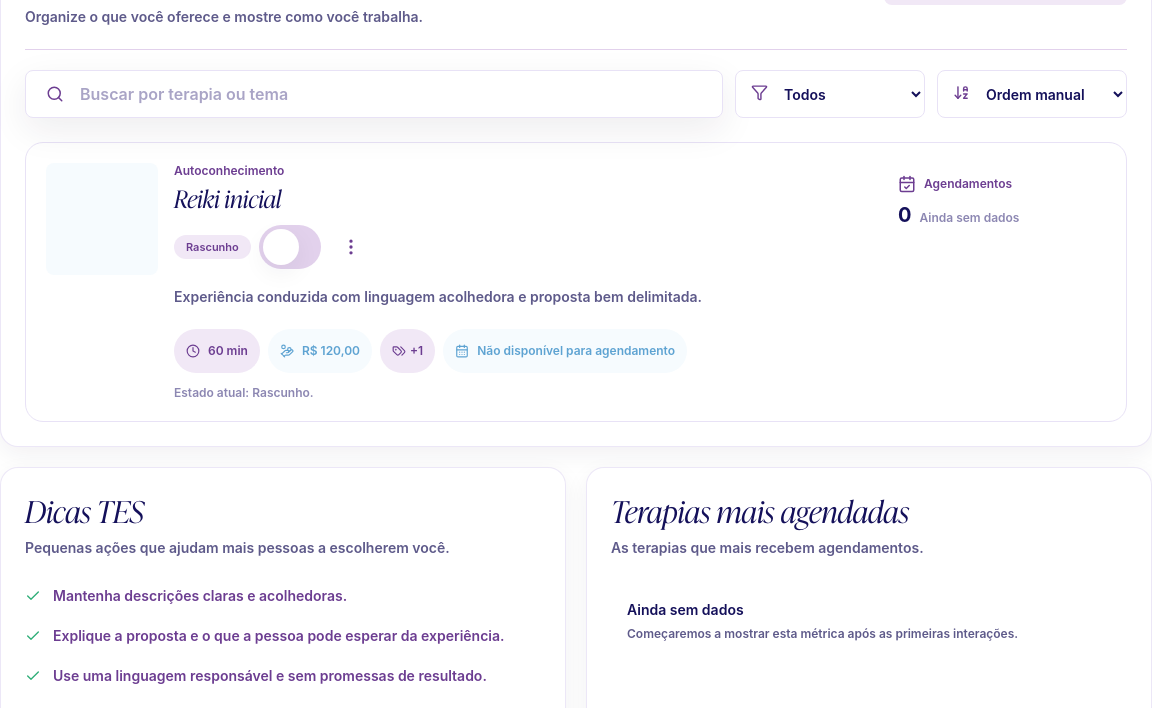
Test: TherapistServicesPage › shows the primary theme once and the remaining themes accessibly
(page scrolled)
Expected: the text "Autoconhecimento" is shown once, 174,163 -> 284,178
Hover over the button named "ver mais 1 tema".
mouse_move(408, 351)  # box 380,329 -> 435,373
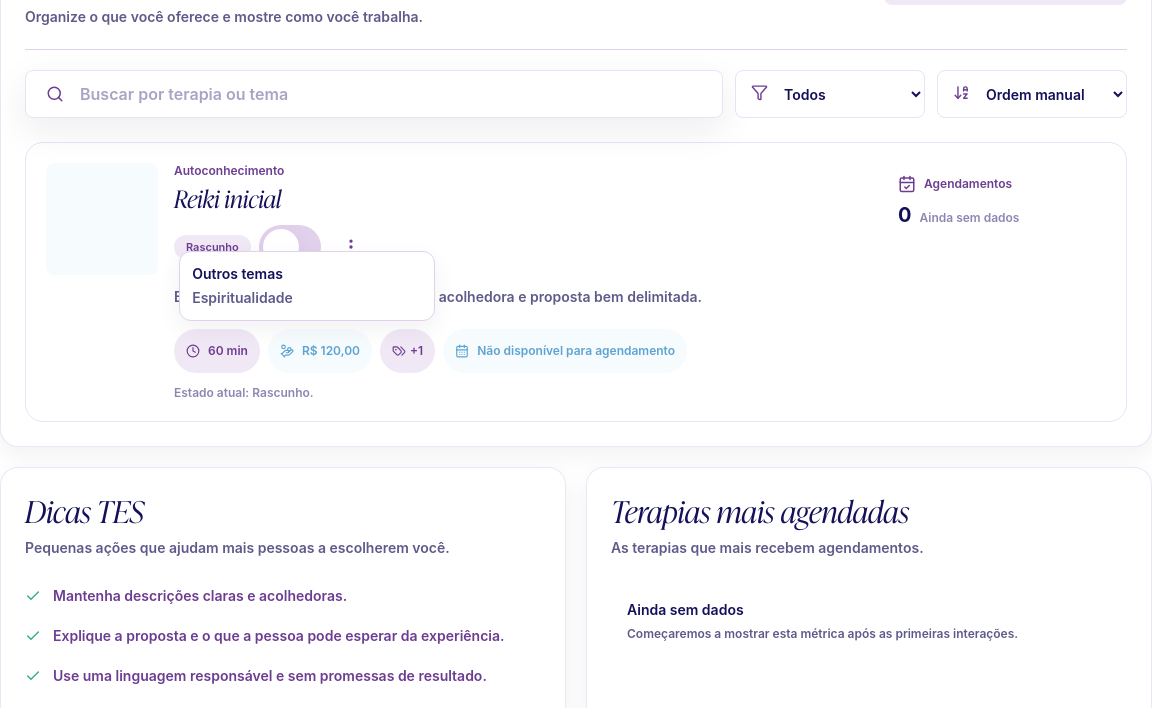
Result: the tooltip shows "Espiritualidade" at 192,289 -> 293,306
